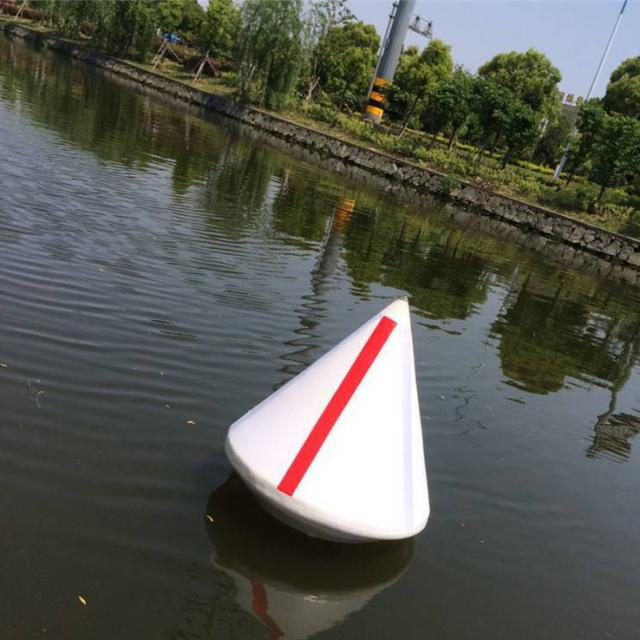buoy: (226, 290, 438, 549)
